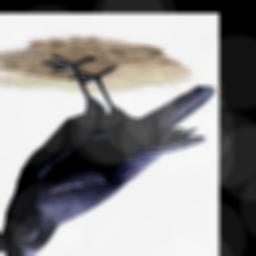Crow: (0, 52, 216, 256)
